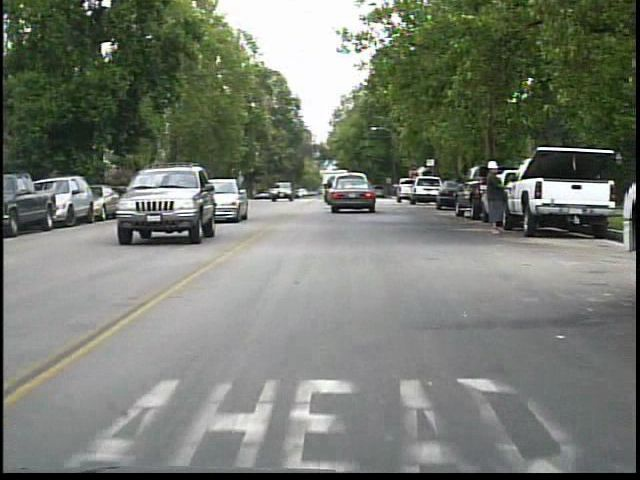person: (481, 157, 513, 238)
